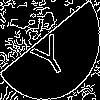Y: (25, 25, 71, 82)
